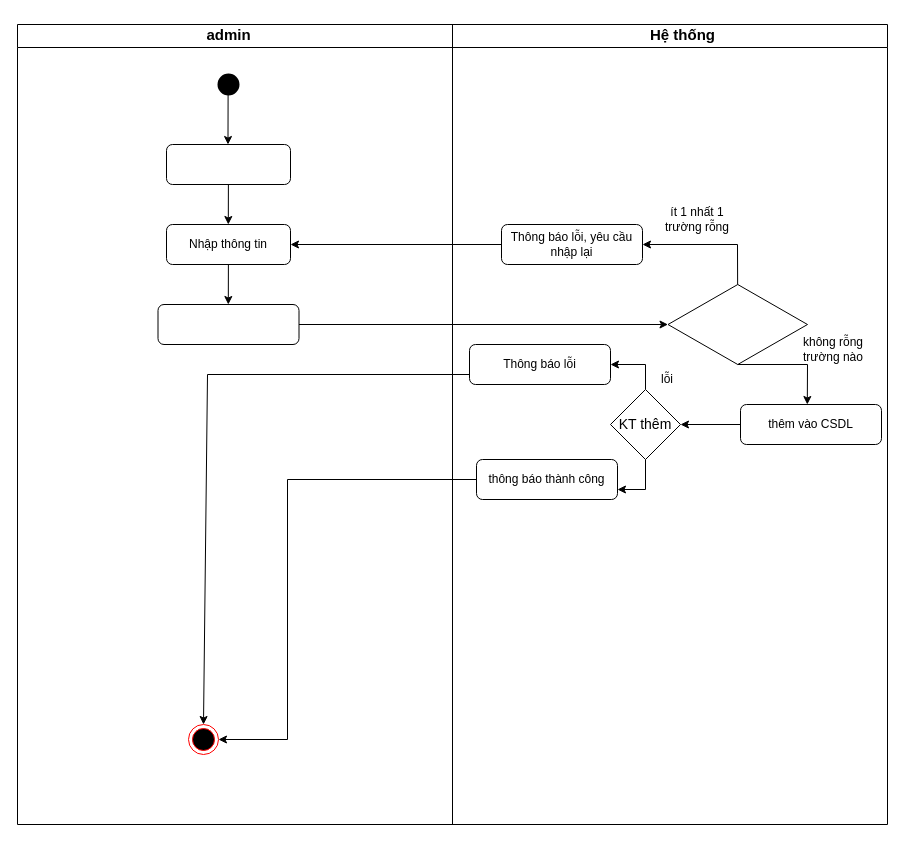
Image size: 905x843. Some labels were removed from this diagram. Each missing label, with the centre of its shape:
KT rỗng: pixel 737 324
Người dùng chọn chức năng thêm chi nhánh: pixel 228 164
nhấn gửi: pixel 228 324
